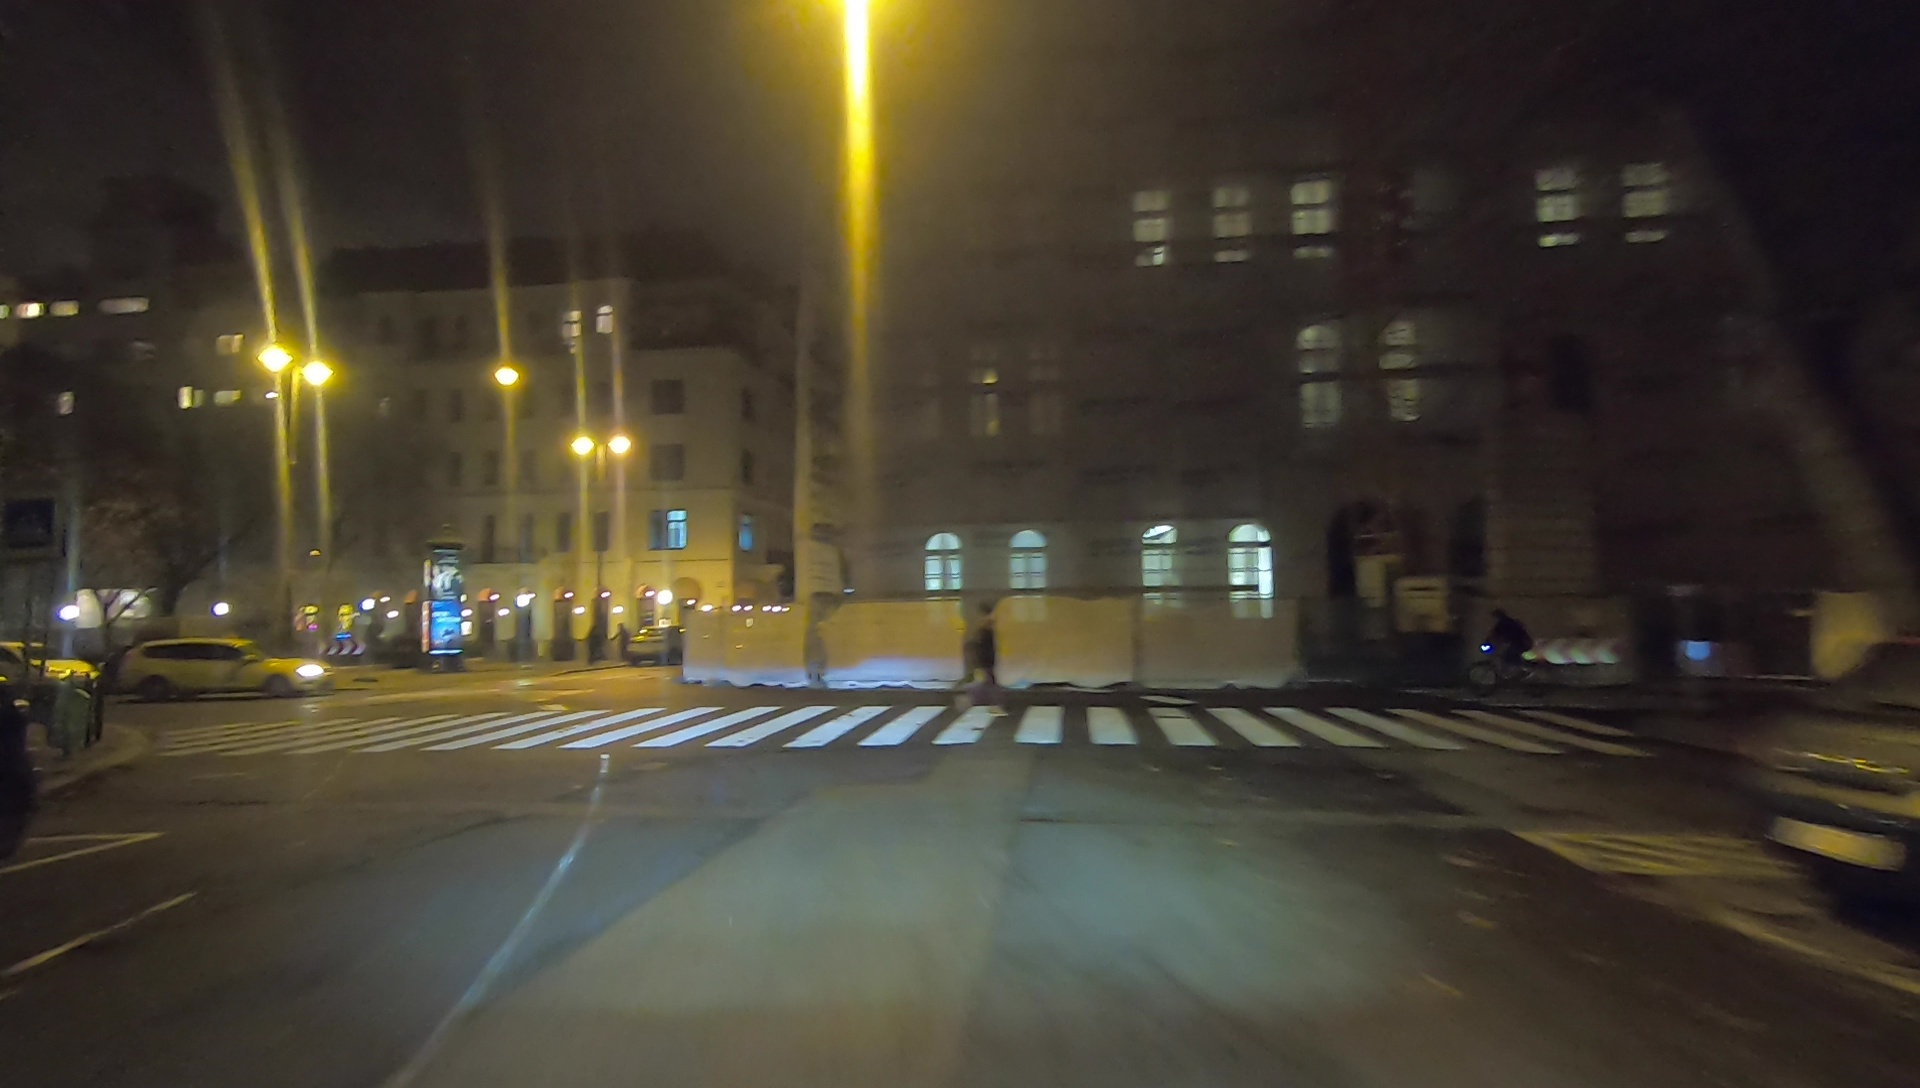person: (964, 606, 1004, 708)
